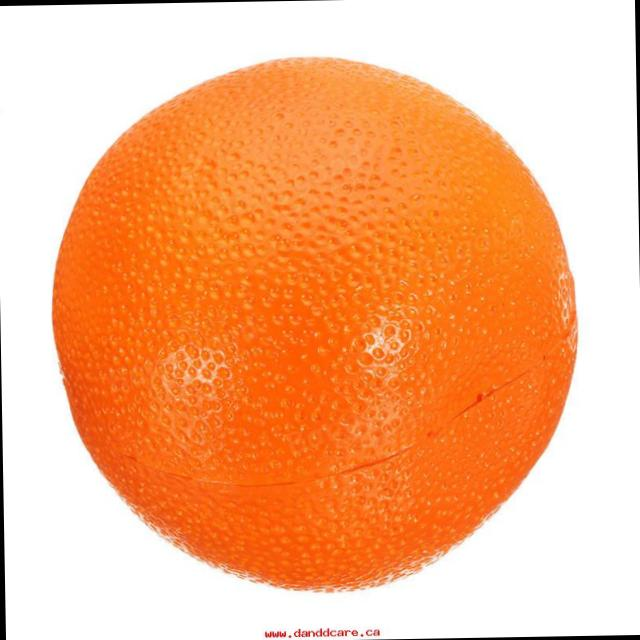orange: (55, 45, 572, 600)
